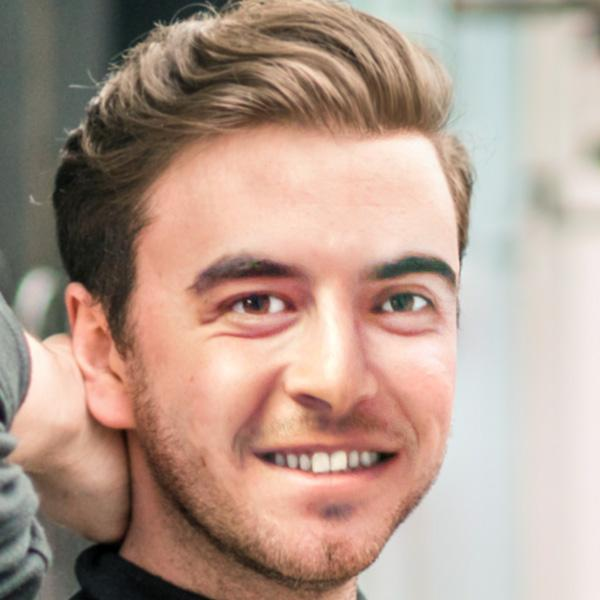Eyes: (205, 282, 307, 335), (366, 278, 446, 335)
